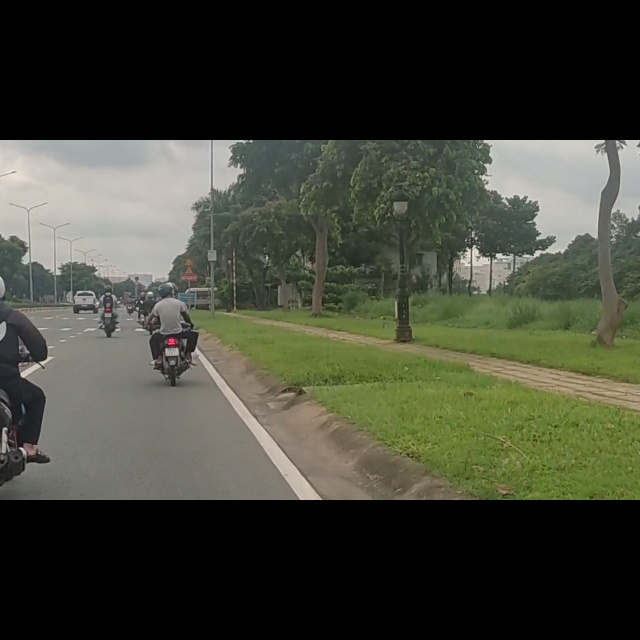bien_nguy_hiem: (185, 209, 194, 224), (185, 224, 195, 237), (135, 242, 139, 250)
